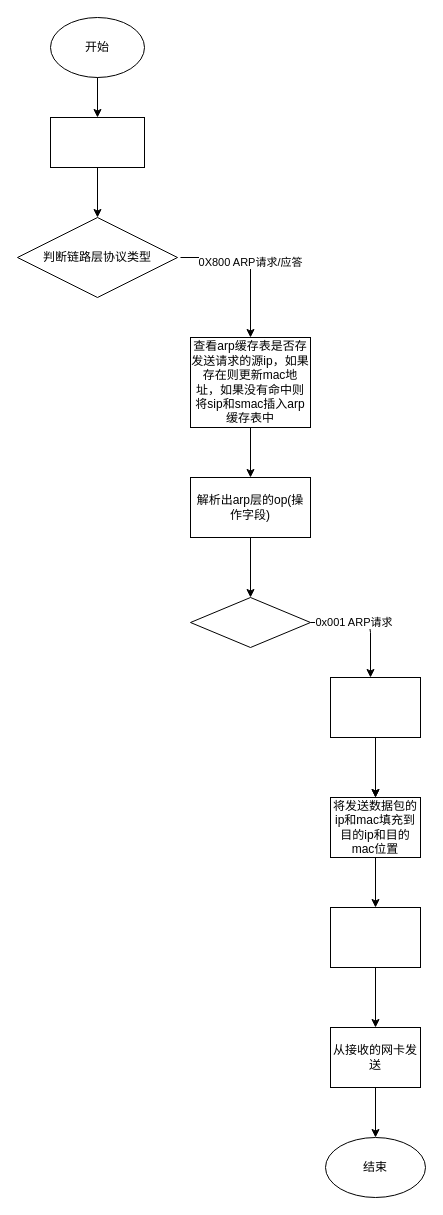
Some shapes in this 443 by 1215 pixel diagram are drawn without their labels. Here are the shapes that lost their labels. From the top down, the centre of each, then its label:
(x=97, y=142): 监听tap虚拟网卡获取数据
(x=250, y=622): 判断op类型
(x=375, y=707): 将本地地址和ma填充到接收到数据包的sip smac 位置
(x=375, y=937): 将目的ip和mac填充到以太网协议的首部
